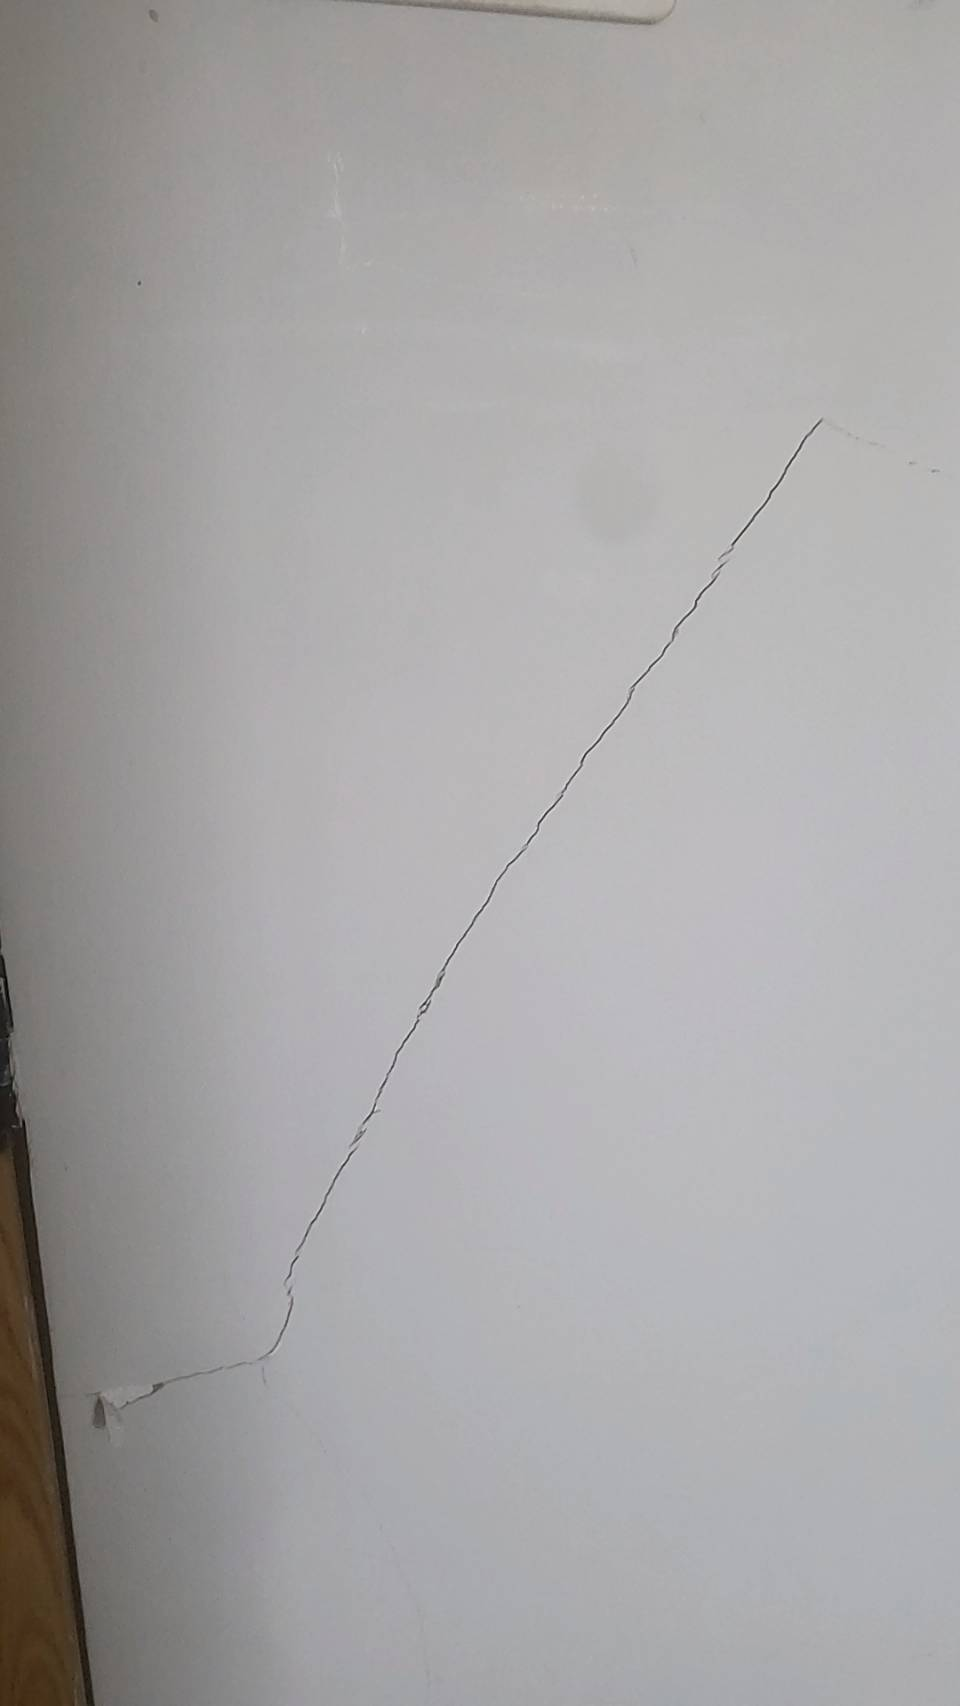Low: (83, 369, 930, 1415)
